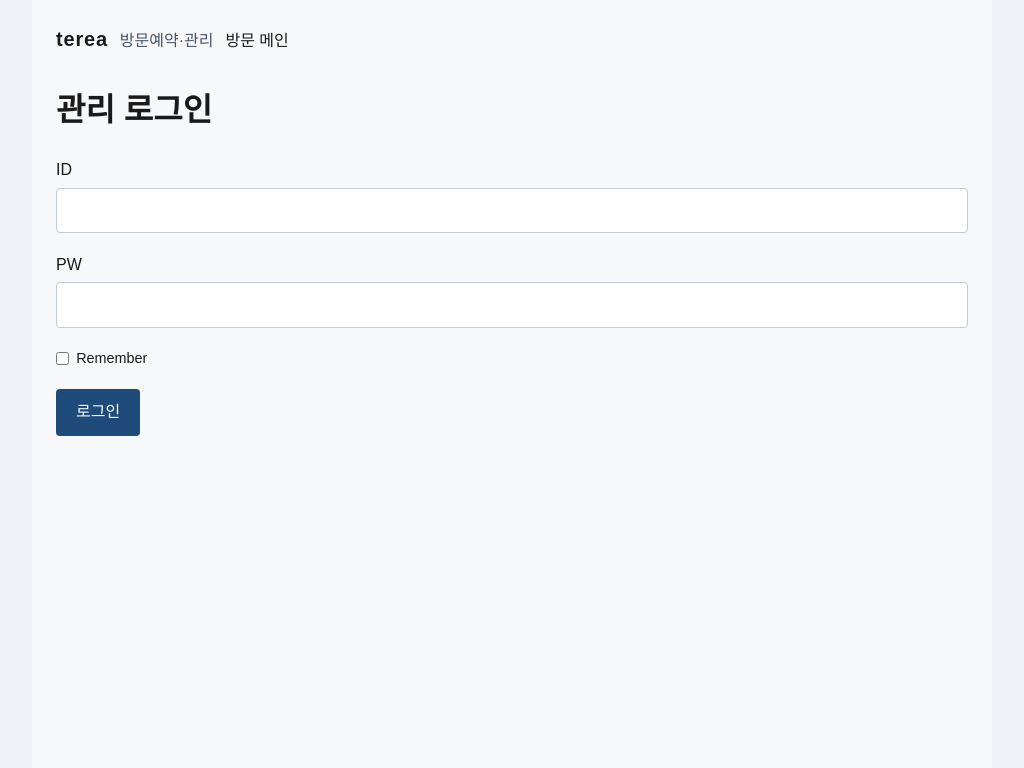
R25: 관리자 UX 수정 › 방문자 현황 검색조건 레이아웃 요소가 있다
This screenshot has width=1024, height=768.
Type "admin" into the field labelled "ID".
click(512, 210); type("admin")  # box [56,188,968,233]
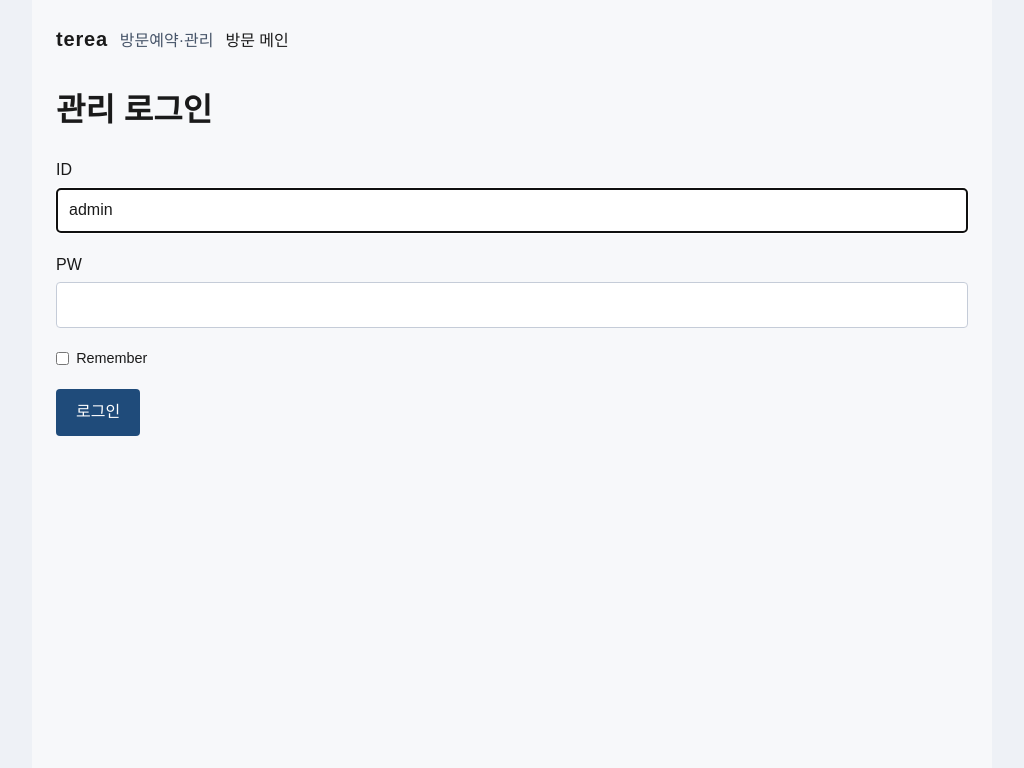
Type "1234" into the password field labelled "PW".
click(512, 305); type("1234")  # box [56,282,968,328]
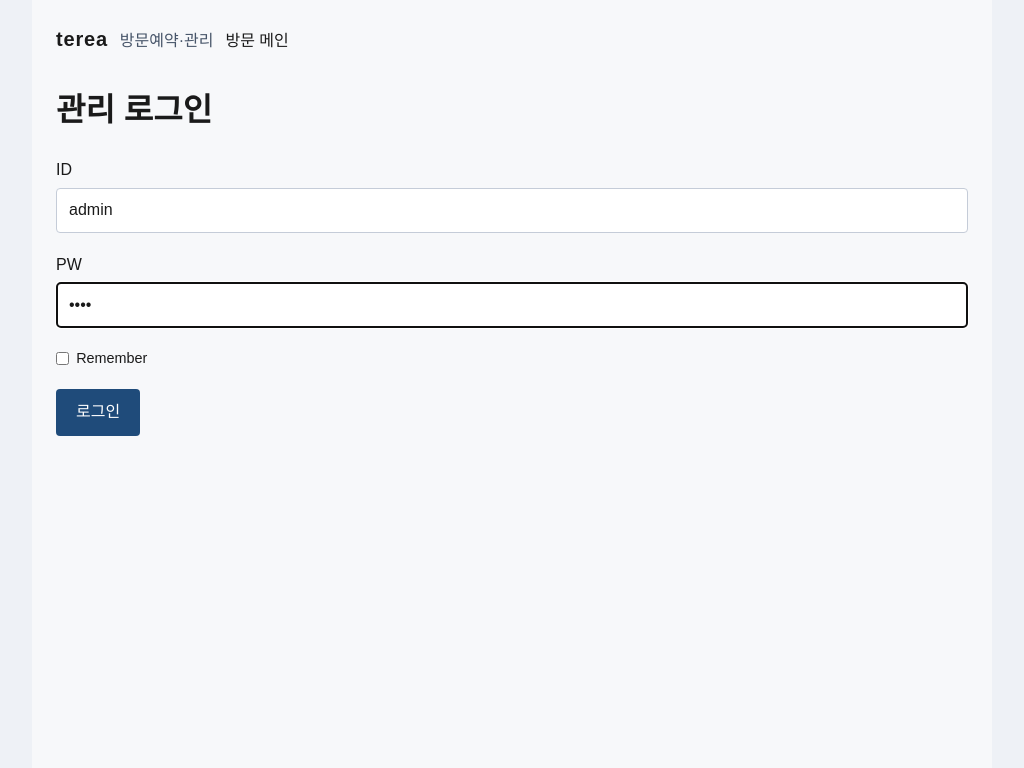
Click the button "로그인".
click(98, 412)  # box [56,389,140,436]
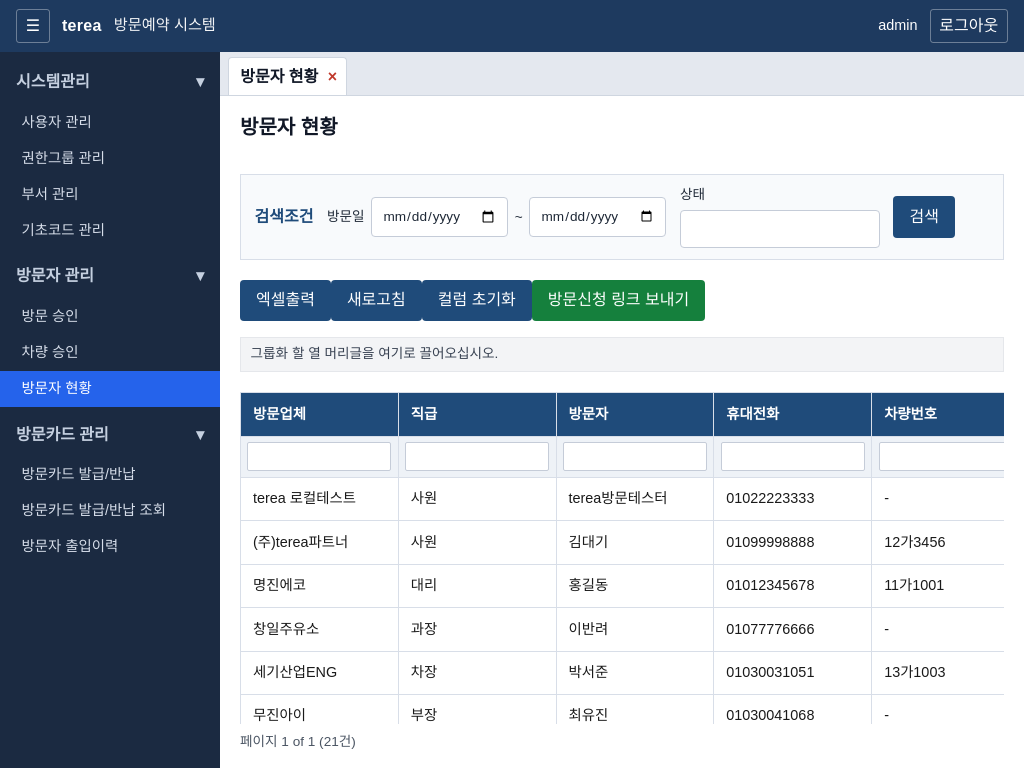
Now the date field named "방문일 시작" is shown, box [371,196,508,237]
Now the date field named "방문일 종료" is shown, box [529,196,666,237]
Now the button "검색" is shown, box [894,196,955,238]
